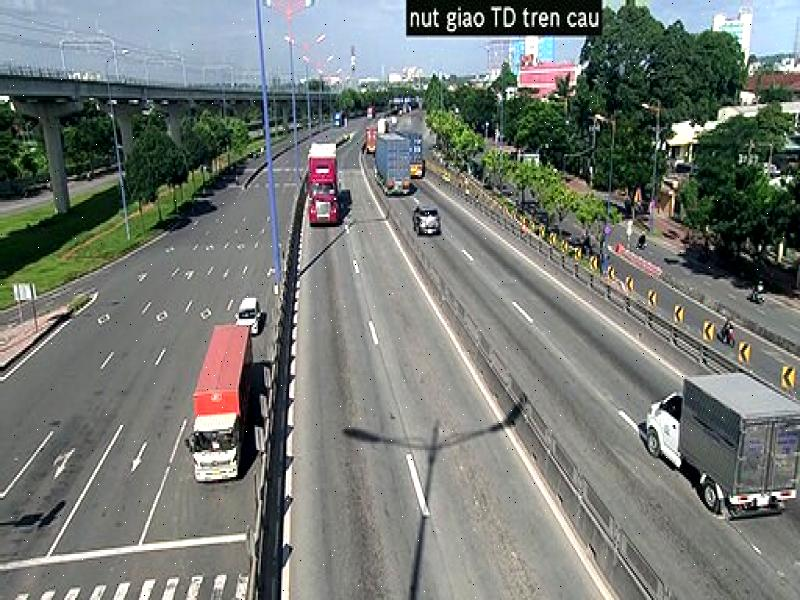truck: (303, 140, 341, 230)
